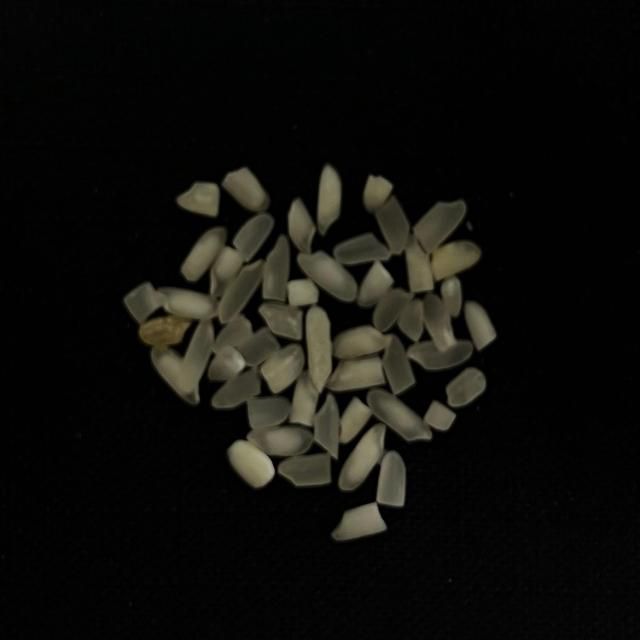Broken: (414, 200, 466, 254), (227, 439, 275, 489), (326, 353, 386, 391), (222, 166, 270, 213), (260, 344, 305, 394), (331, 501, 387, 541), (374, 195, 410, 255), (422, 294, 457, 354), (382, 334, 416, 395), (431, 241, 482, 281), (233, 213, 274, 262), (211, 369, 261, 408), (210, 245, 246, 299), (276, 453, 332, 487), (316, 164, 342, 236), (123, 282, 166, 324), (237, 326, 280, 368), (373, 288, 414, 332), (258, 300, 302, 340), (313, 393, 339, 460), (263, 235, 289, 302), (334, 233, 390, 264), (338, 396, 374, 444), (376, 450, 406, 507), (289, 371, 320, 426), (287, 198, 317, 254), (406, 232, 434, 292), (358, 260, 394, 306), (445, 367, 486, 407), (464, 300, 496, 351), (212, 314, 253, 353), (177, 182, 220, 217), (208, 343, 246, 380), (247, 396, 290, 428), (396, 299, 425, 342), (363, 175, 392, 211), (424, 400, 456, 431), (287, 278, 319, 307), (442, 278, 462, 317)
Full: (367, 388, 432, 442), (338, 422, 387, 491), (296, 250, 356, 302), (218, 259, 265, 324), (151, 346, 201, 405), (179, 318, 214, 392), (180, 227, 226, 281), (306, 304, 332, 394), (333, 323, 395, 360), (156, 288, 220, 321), (247, 426, 314, 456), (406, 340, 473, 370), (139, 315, 190, 345)
